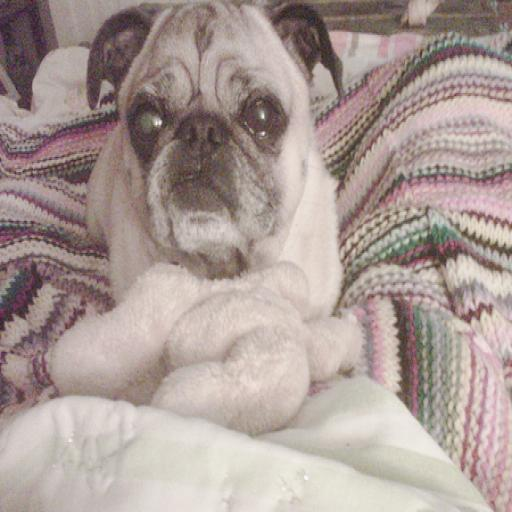dog_face: (82, 0, 339, 267)
